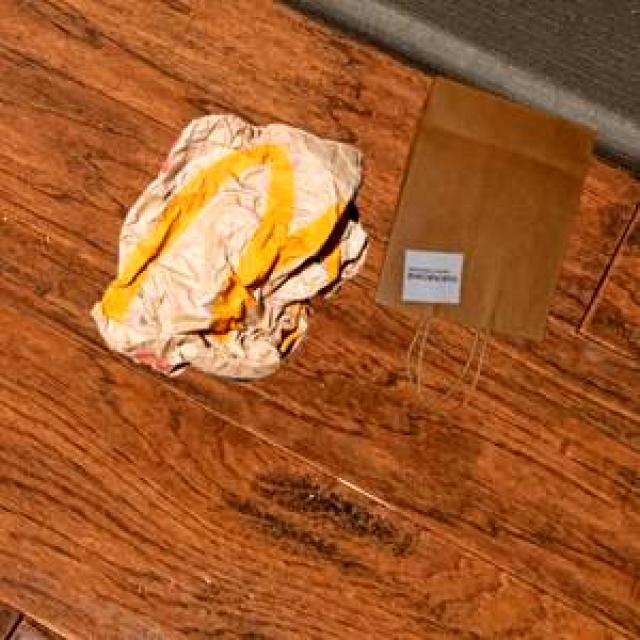Paper_Bag: (88, 112, 366, 381), (372, 73, 592, 396)
